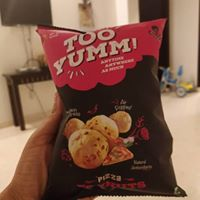plastic: (53, 17, 166, 196)
tooyumm: (57, 25, 141, 80)
wrapper: (38, 18, 186, 196)
